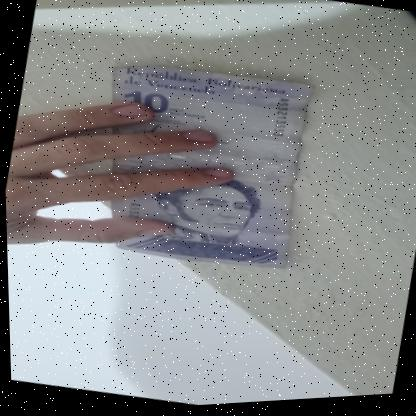ten-front-vef: (129, 59, 362, 309)
